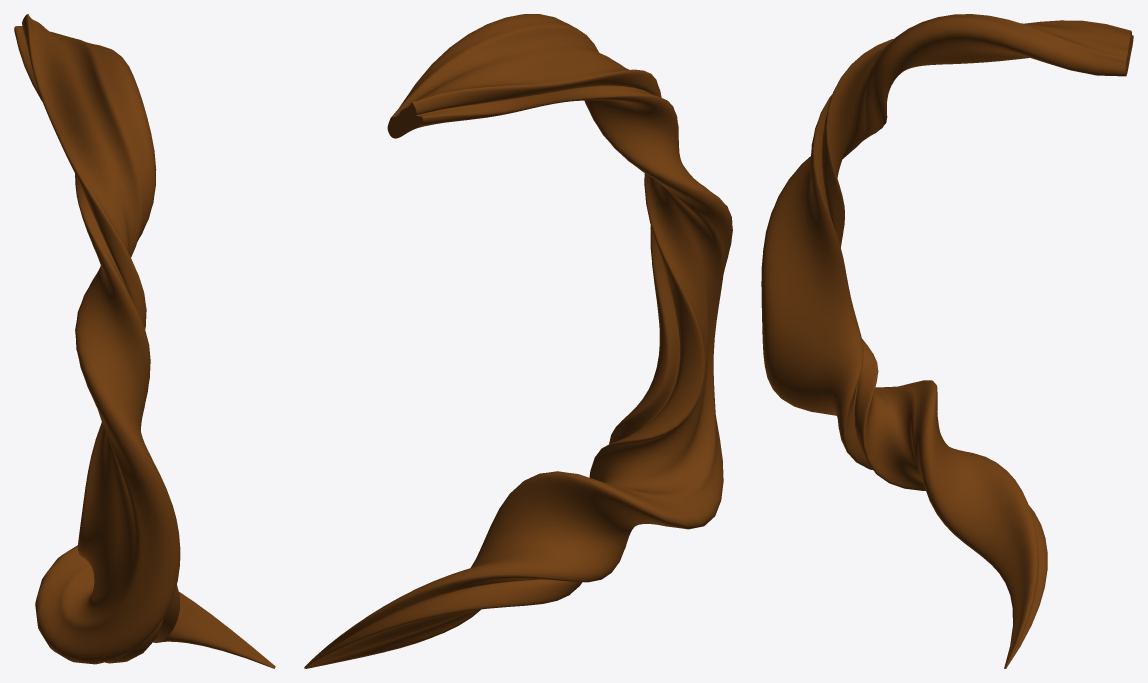
File: Branch_04.fbx
The picture shows the model from 3 angles, left to right: view 1: azimuth 30°, elevation 25°; view 2: azimuth 150°, elevation 25°; view 3: azimuth 270°, elevation 25°; orthographic projection. The views are drawn at different scales.
Visible parts, largest first — view 1: NurbsPath.006; view 2: NurbsPath.006; view 3: NurbsPath.006.
Part boxes in pixels (x1,y1,x2,y2): NurbsPath.006: (14, 14, 275, 668); NurbsPath.006: (304, 14, 732, 668); NurbsPath.006: (761, 14, 1133, 668).
Size of the model in its own units: 353 by 723 by 423.
